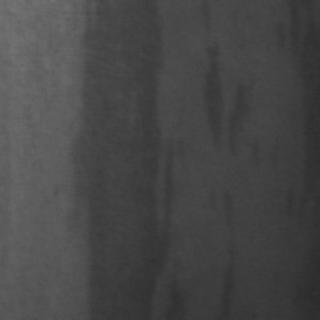inclusion: (59, 2, 172, 314), (277, 0, 317, 242), (191, 3, 235, 158), (207, 183, 243, 317)
